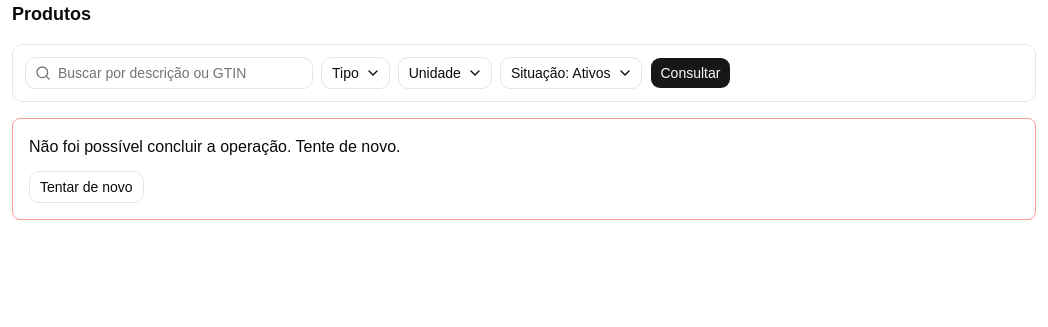
ProductsListPage › offers a way out when the list fails to load
Step 1. Click the button "Tentar de novo" → x=86, y=187, box [29, 171, 144, 203]
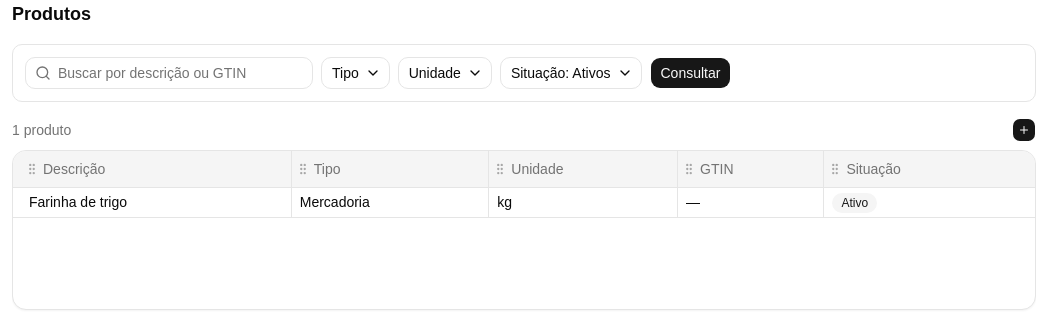
Now the text "Farinha de trigo" is shown, box [13, 187, 291, 217]
